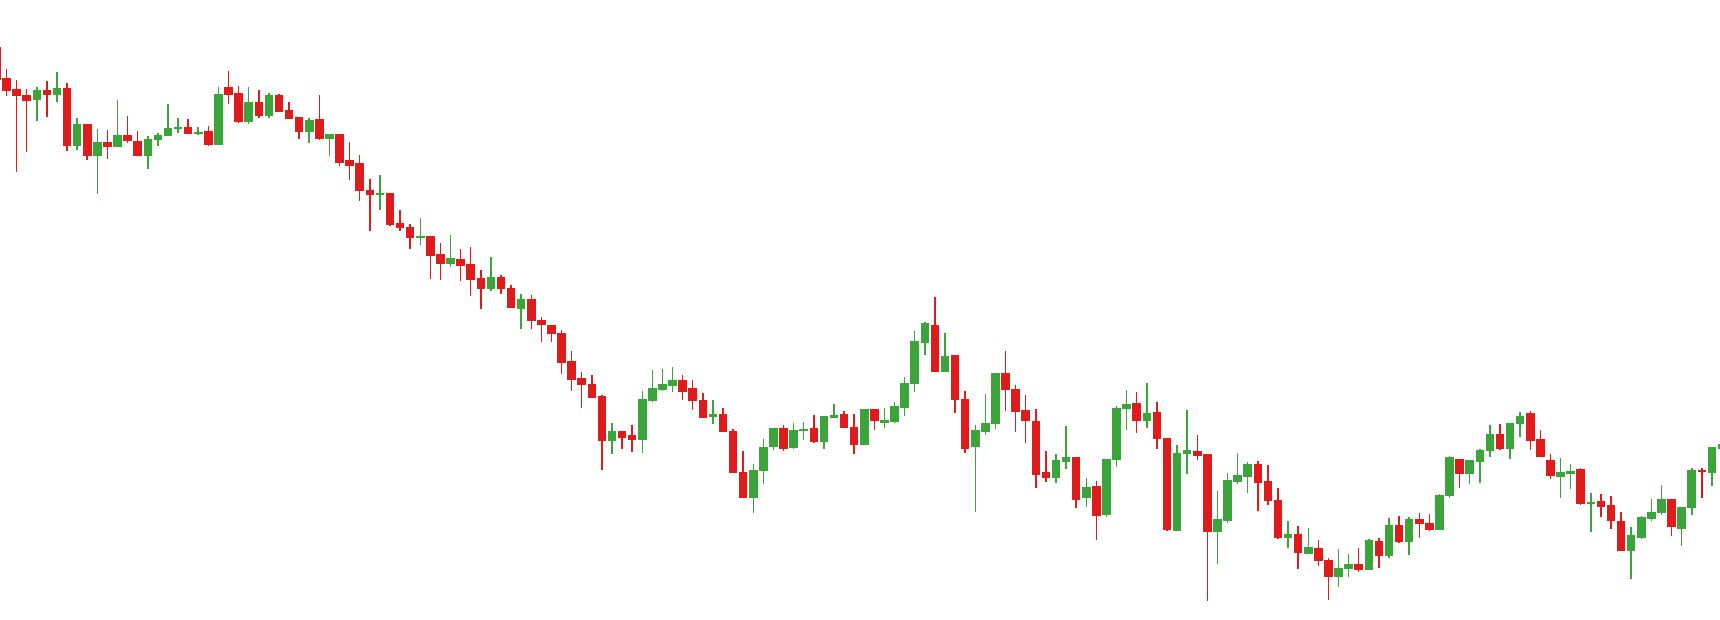sell: (1060, 377, 1163, 470)
